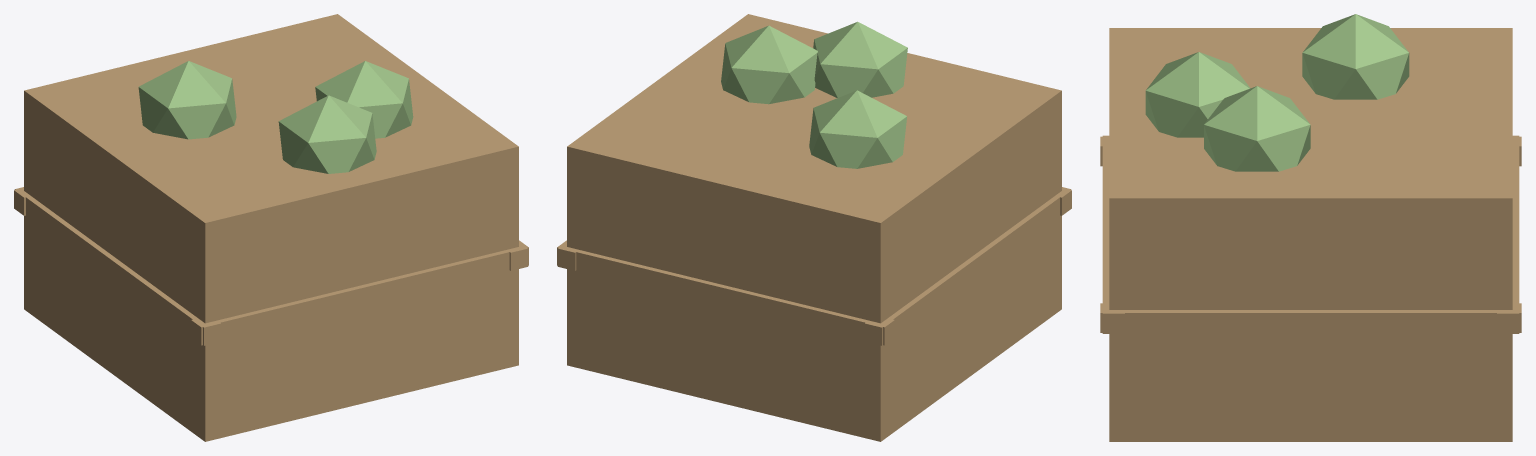
Rendered from crate.glb.
3 renders of one model, left to right at view 1: azimuth 30°, elevation 25°; view 2: azimuth 150°, elevation 25°; view 3: azimuth 270°, elevation 25°, orthographic. The views are drawn at different scales.
Visible parts, largest first — view 1: Cube, Cube.001, Icosphere, Icosphere.002, Cube.003, Icosphere.001; view 2: Cube, Cube.002, Icosphere, Icosphere.001, Icosphere.002, Cube.003; view 3: Cube, Cube.004, Icosphere, Icosphere.001, Icosphere.002, Cube.001, Cube.002.
Boxes of the visible parts, x1=… form: Cube: x1=24, y1=14, x2=518, y2=441; Cube.001: x1=191, y1=240, x2=528, y2=345; Icosphere: x1=138, y1=61, x2=236, y2=139; Icosphere.002: x1=278, y1=95, x2=376, y2=173; Cube.003: x1=14, y1=187, x2=221, y2=345; Icosphere.001: x1=315, y1=61, x2=413, y2=138; Cube: x1=567, y1=14, x2=1061, y2=441; Cube.002: x1=557, y1=240, x2=894, y2=345; Icosphere: x1=809, y1=90, x2=907, y2=168; Icosphere.001: x1=721, y1=25, x2=817, y2=104; Icosphere.002: x1=813, y1=21, x2=907, y2=97; Cube.003: x1=864, y1=187, x2=1071, y2=345; Cube: x1=1109, y1=28, x2=1512, y2=441; Cube.004: x1=1100, y1=303, x2=1521, y2=332; Icosphere: x1=1302, y1=14, x2=1409, y2=99; Icosphere.001: x1=1204, y1=86, x2=1310, y2=171; Icosphere.002: x1=1145, y1=52, x2=1250, y2=137; Cube.001: x1=1102, y1=135, x2=1124, y2=333; Cube.002: x1=1497, y1=135, x2=1519, y2=333.
Bounding box in the file's own units: 0.94 × 0.76 × 0.94.
